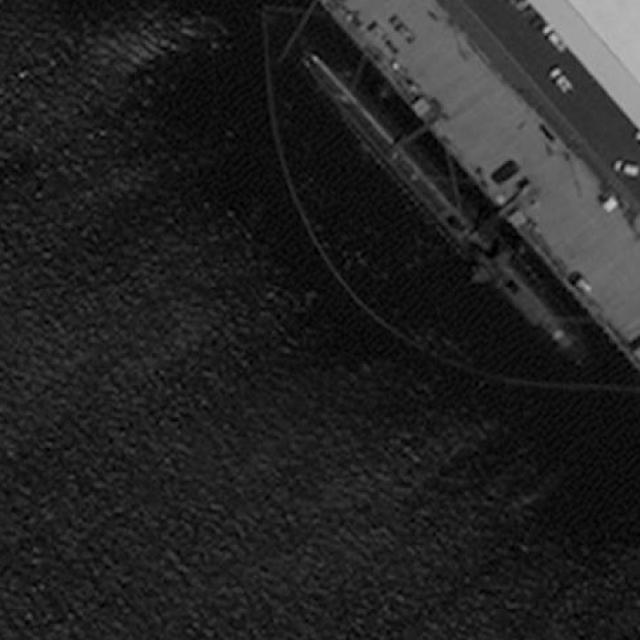Submarine: (286, 41, 595, 363)
